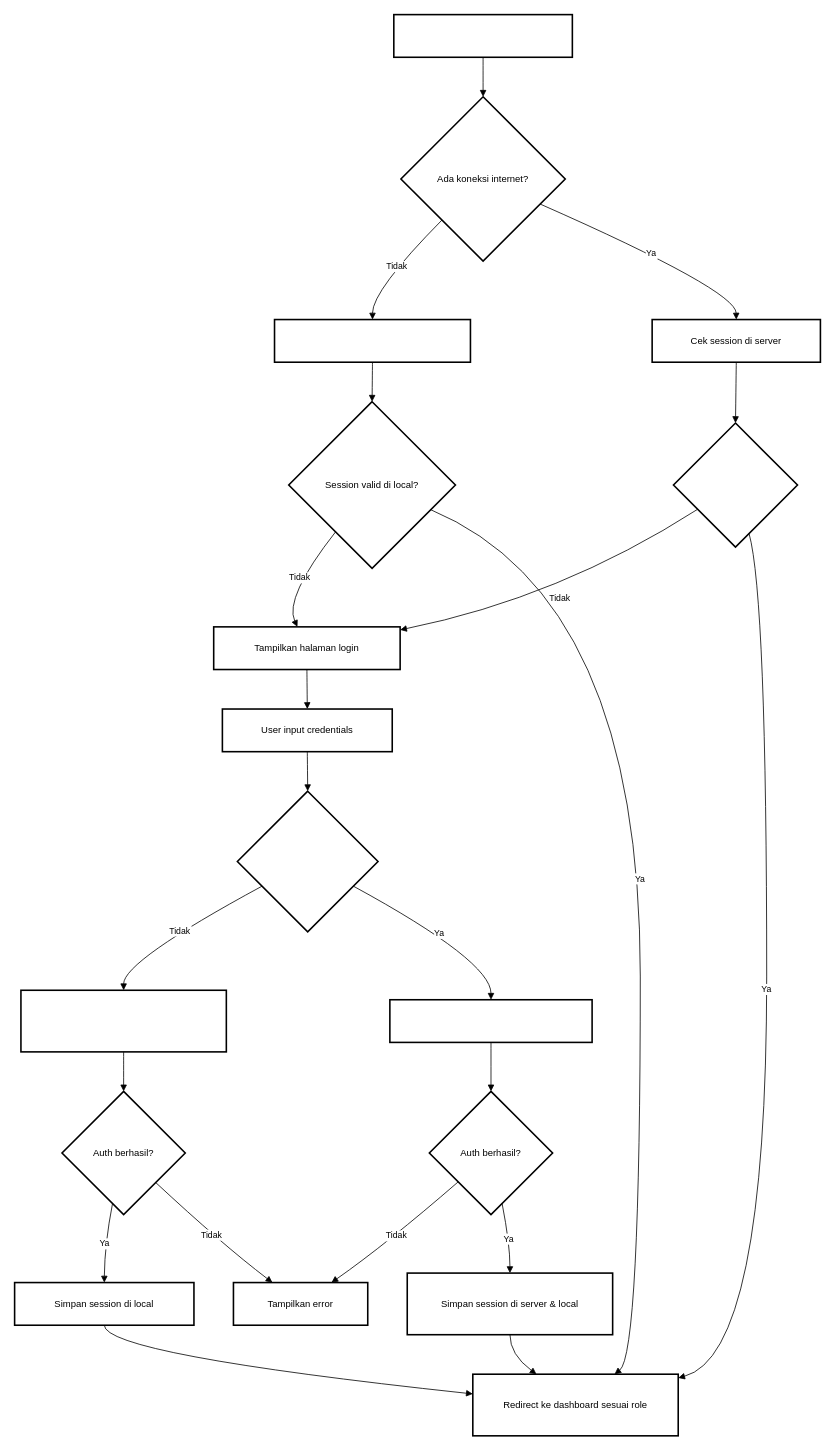
The diagram is 834 pixels wide and 1450 high, and some of its shapes have lost their labels. The centre of each missing label's shape, as x and y in pixels:
"Authenticate dengan local cache" goes at pixel 123 1020.
"Authenticate dengan server" goes at pixel 490 1021.
"Cek session di IndexedDB" goes at pixel 372 340.
"Koneksi internet?" goes at pixel 307 861.
"Session valid?" goes at pixel 735 484.
"User membuka aplikasi" goes at pixel 483 35.
